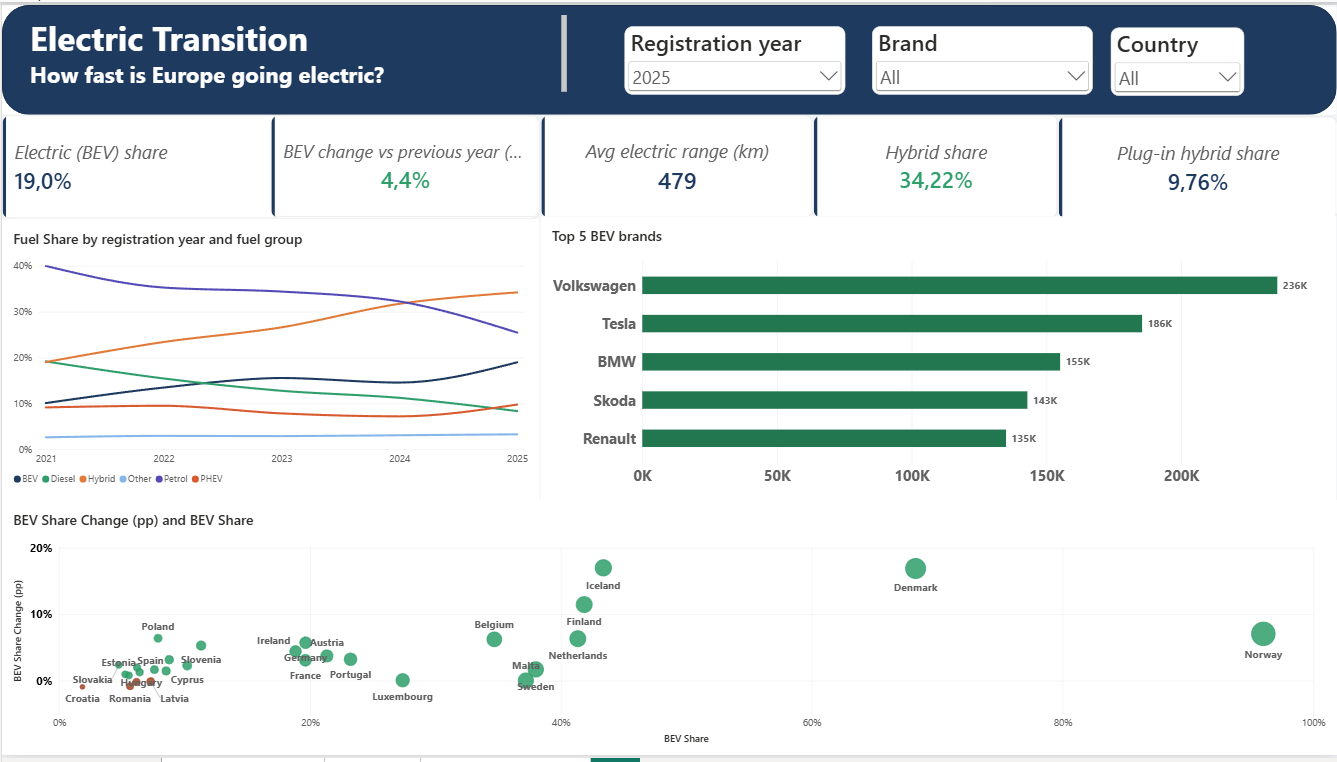

The dashboard page shown, as its layout file describes it:
{"tool":"powerbi","page":{"name":"Electric Transition","canvas":[1920,1080],"ordinal":2},"visuals":[{"type":"shape","box":[0,0,1919.6,158],"z":0},{"type":"textbox","box":[39,15.1,772.6,116.9],"z":1000},{"type":"slicer","fields":{"Values":["fact_registrations.registration_year"]},"box":[896,30.3,317.7,98.8],"z":2000},{"type":"slicer","title":"Country","fields":{"Values":["dim_country.country_name"]},"box":[1595,32.5,192.2,98.8],"z":3000},{"type":"cardVisual","fields":{"Data":["fact_registrations.BEV Share"]},"box":[0,158,495.6,149.3],"z":4000},{"type":"cardVisual","fields":{"Data":["fact_registrations.BEV Share Change (pp)"]},"box":[386.9,158.7,386.9,148.8],"z":5000},{"type":"cardVisual","fields":{"Data":["fact_registrations.PHEV Share"]},"box":[1519.2,160.1,401.8,148.8],"z":6000},{"type":"slicer","fields":{"Values":["dim_brand.brand_clean"]},"box":[1250.9,30.3,317.7,98.8],"z":7000},{"type":"cardVisual","fields":{"Data":["fact_registrations.Avg BEV Range (km)"]},"box":[774.8,158,391.8,148.8],"z":8000},{"type":"cardVisual","fields":{"Data":["fact_registrations.Hybrid Share"]},"box":[1166.5,158,352.2,148.8],"z":9000},{"type":"clusteredBarChart","title":"Top 5 BEV brands","fields":{"Category":["dim_brand.brand_clean"],"Y":["fact_registrations.Total Registrations"]},"box":[775.2,303.8,1144.3,408.9],"z":11000},{"type":"scatterChart","title":"BEV Share Change (pp) and BEV Share","fields":{"Category":["dim_country.country_name"],"Size":["fact_registrations.BEV Share"],"X":["fact_registrations.BEV Share"],"Y":["fact_registrations.BEV Share Change (pp)"]},"box":[0,711.9,1920,366.7],"z":13000},{"type":"lineChart","title":"Fuel Share by registration year and fuel group","fields":{"Category":["fact_registrations.registration_year"],"Series":["dim_fuel.fuel_group"],"Y":["fact_registrations.Fuel Share"]},"box":[0,307.4,773,404.5],"z":13001}]}

Visuals, with their boxes in screenshot pixels (x1, y1, x2, y2), scaled from the page's 1920x1080 canvas onto the 1337x762 screenshot:
shape: bbox=[0, 0, 1336, 111]
textbox: bbox=[27, 11, 565, 93]
slicer - fact_registrations.registration_year: bbox=[624, 21, 845, 91]
"Country" slicer: bbox=[1111, 23, 1245, 93]
cardVisual - fact_registrations.BEV Share: bbox=[0, 111, 345, 217]
cardVisual - fact_registrations.BEV Share Change (pp): bbox=[269, 112, 539, 217]
cardVisual - fact_registrations.PHEV Share: bbox=[1058, 113, 1336, 218]
slicer - dim_brand.brand_clean: bbox=[871, 21, 1092, 91]
cardVisual - fact_registrations.Avg BEV Range (km): bbox=[540, 111, 812, 216]
cardVisual - fact_registrations.Hybrid Share: bbox=[812, 111, 1058, 216]
"Top 5 BEV brands" clusteredBarChart: bbox=[540, 214, 1336, 503]
"BEV Share Change (pp) and BEV Share" scatterChart: bbox=[0, 502, 1336, 761]
"Fuel Share by registration year and fuel group" lineChart: bbox=[0, 217, 538, 502]
